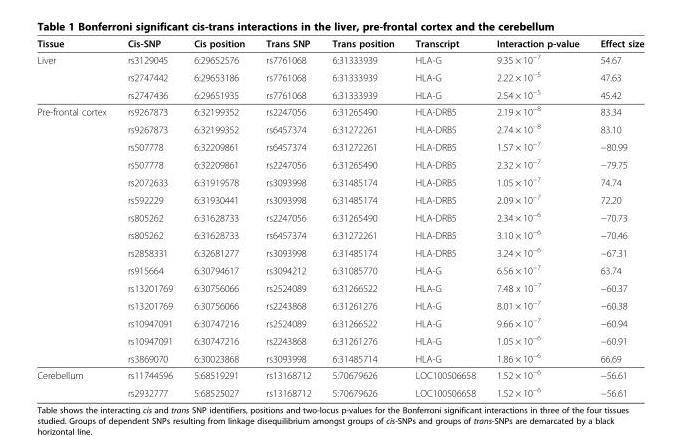table: (36, 37, 643, 398)
table column: (485, 37, 589, 398), (321, 37, 404, 398), (404, 37, 485, 398), (36, 37, 116, 398), (182, 37, 254, 398), (254, 37, 321, 398), (116, 37, 182, 398), (589, 37, 643, 398)
table column header: (36, 37, 643, 50)
table row: (36, 67, 643, 85), (36, 119, 643, 137), (36, 154, 643, 172), (36, 189, 643, 207), (36, 207, 643, 225), (36, 242, 643, 260), (36, 260, 643, 278), (36, 295, 643, 313), (36, 313, 643, 331), (36, 50, 643, 67), (36, 85, 643, 102), (36, 102, 643, 119), (36, 137, 643, 154), (36, 172, 643, 189), (36, 225, 643, 242), (36, 278, 643, 295), (36, 331, 643, 348), (36, 348, 643, 365), (36, 365, 643, 382), (36, 382, 643, 398), (36, 37, 643, 50)
table spanning cell: (36, 102, 116, 365), (36, 50, 116, 102), (36, 365, 116, 398)
